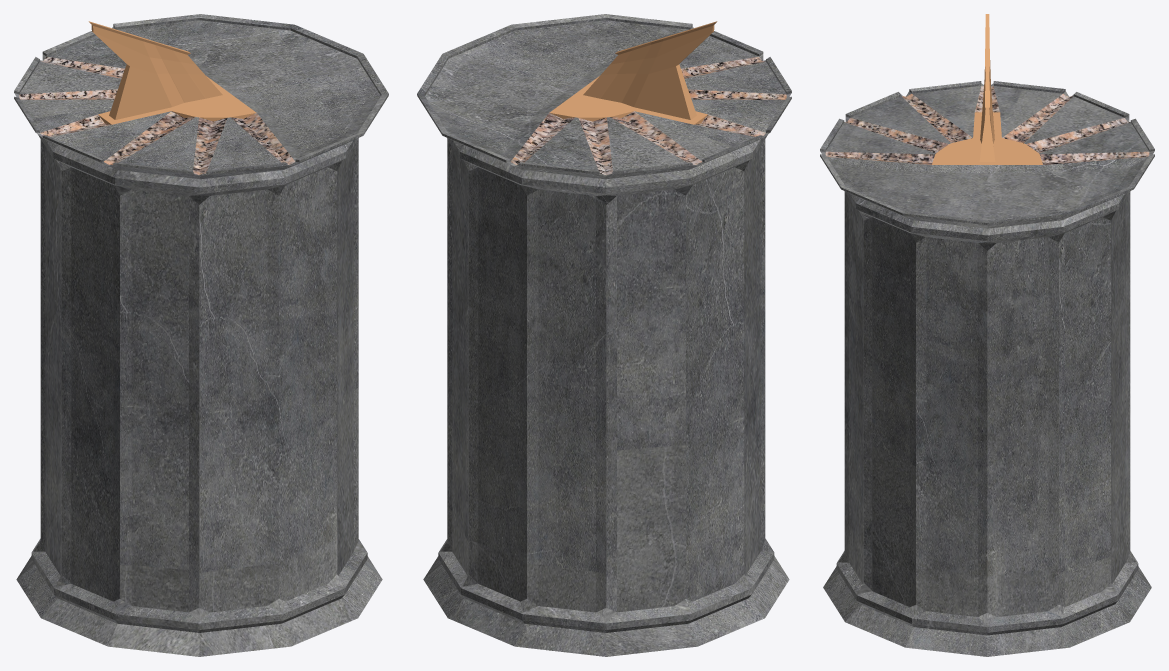
File: sundial.gltf
The picture shows the model from 3 angles, left to right: view 1: azimuth 30°, elevation 25°; view 2: azimuth 150°, elevation 25°; view 3: azimuth 270°, elevation 25°; orthographic projection. The views are drawn at different scales.
Visible parts, largest first — view 1: Circle, Circle.001; view 2: Circle, Circle.001; view 3: Circle, Circle.001.
Part boxes in pixels (left/top/right/bottom): Circle: left=14, top=14, right=388, bottom=656; Circle.001: left=88, top=21, right=256, bottom=124; Circle: left=417, top=14, right=791, bottom=656; Circle.001: left=549, top=21, right=717, bottom=124; Circle: left=820, top=81, right=1154, bottom=656; Circle.001: left=932, top=14, right=1042, bottom=164.
Size of the model in its own units: 0.5116 by 0.8808 by 0.509.
3 materials, 2 textured.
